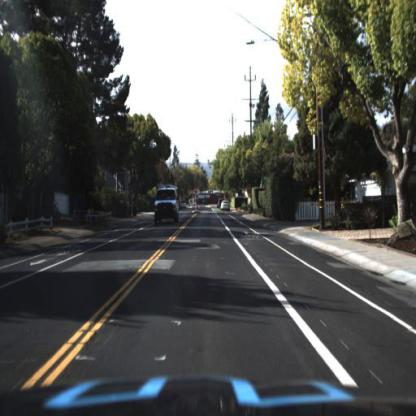car: (147, 181, 181, 227), (221, 198, 232, 213)
